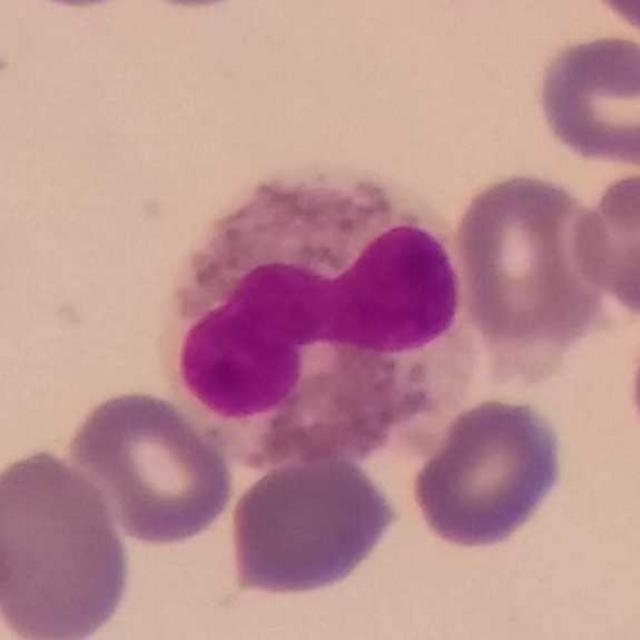eosino: (166, 160, 491, 469)
